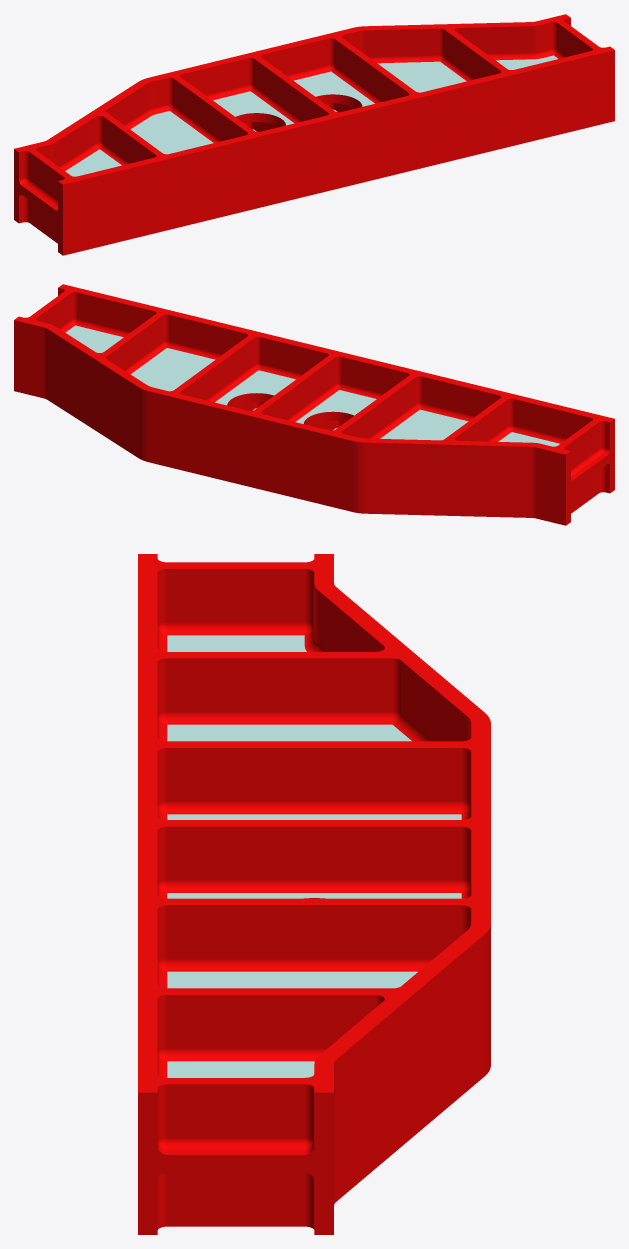
File: Suporte de Fixação Duplo(13).glb
3 renders of one model, top to bottom at view 1: azimuth 30°, elevation 25°; view 2: azimuth 150°, elevation 25°; view 3: azimuth 270°, elevation 25°, orthographic. The views are drawn at different scales.
Parts seen in each view (by area): view 1: Part 1; view 2: Part 1; view 3: Part 1.
Boxes of the visible parts, box(x1,y1,x2,y2) form: Part 1: box(14, 14, 614, 255); Part 1: box(14, 284, 614, 525); Part 1: box(138, 554, 490, 1234).
Bounding box in the file's own units: 0.65 × 0.08 × 0.18.
